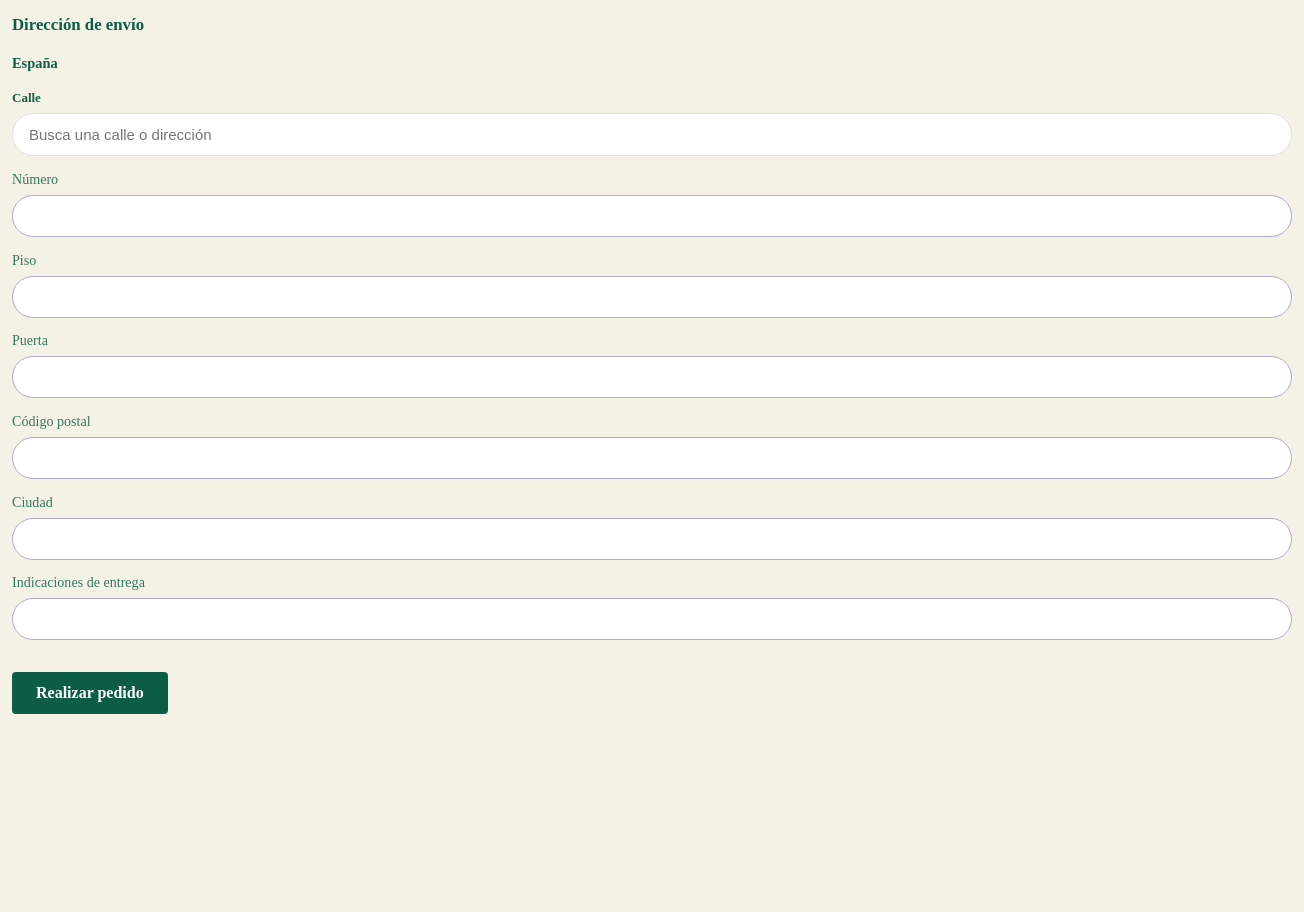
Scenario: checkout address browser behavior › blocks an incomplete address before making checkout requests
Click the button "Realizar pedido" at (90, 693), box [12,672,168,714]
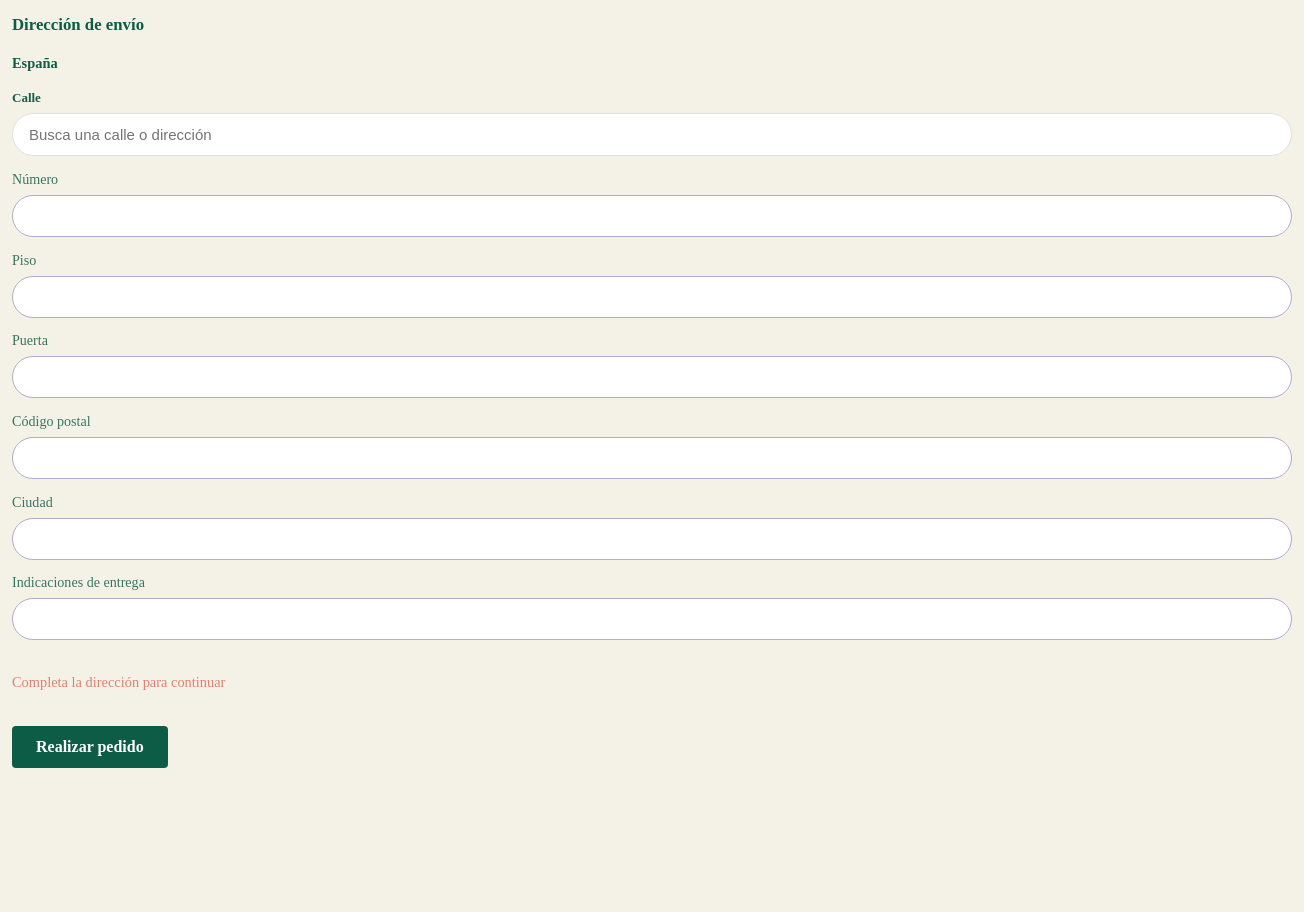
Result: the message shows "Completa la dirección" at [12,674,225,690]
